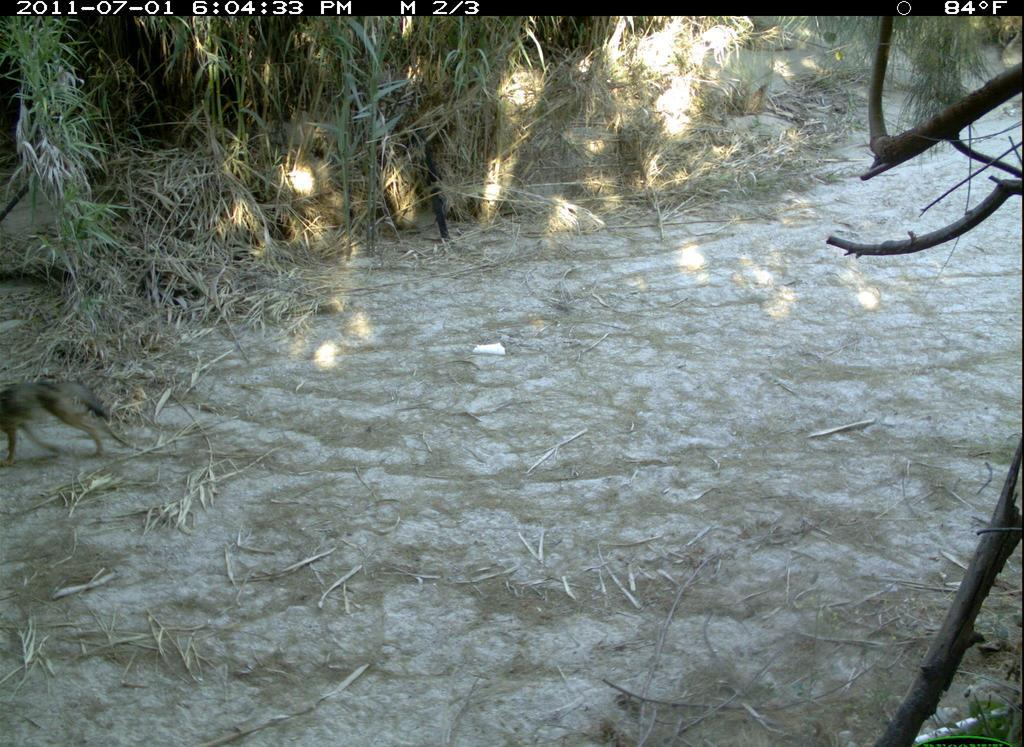coyote: (1, 377, 131, 463)
